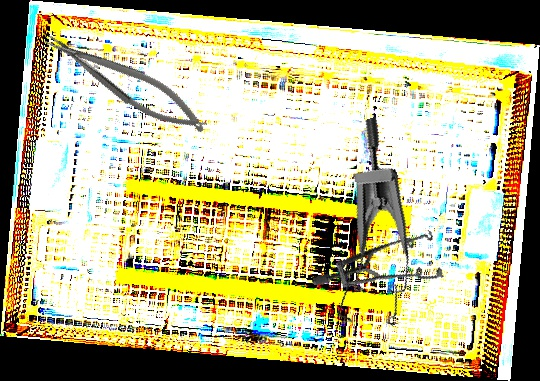Needle Holder: (39, 17, 214, 147)
Speculum: (281, 116, 444, 341), (311, 198, 457, 326)
